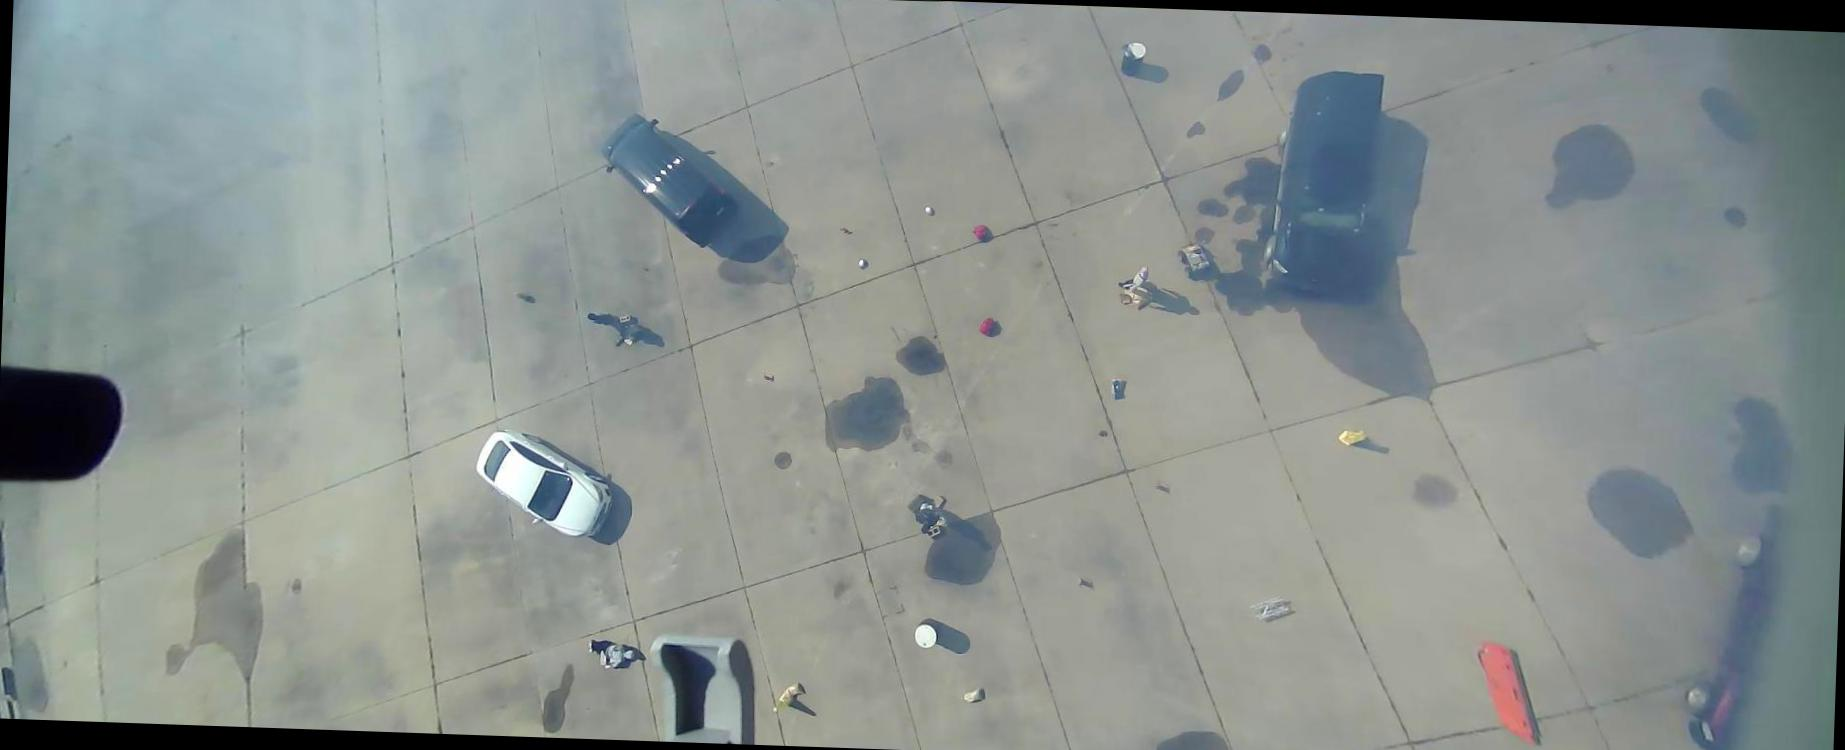vehicle: (1259, 68, 1386, 299), (1679, 497, 1783, 749), (594, 111, 744, 250), (472, 429, 617, 539)
